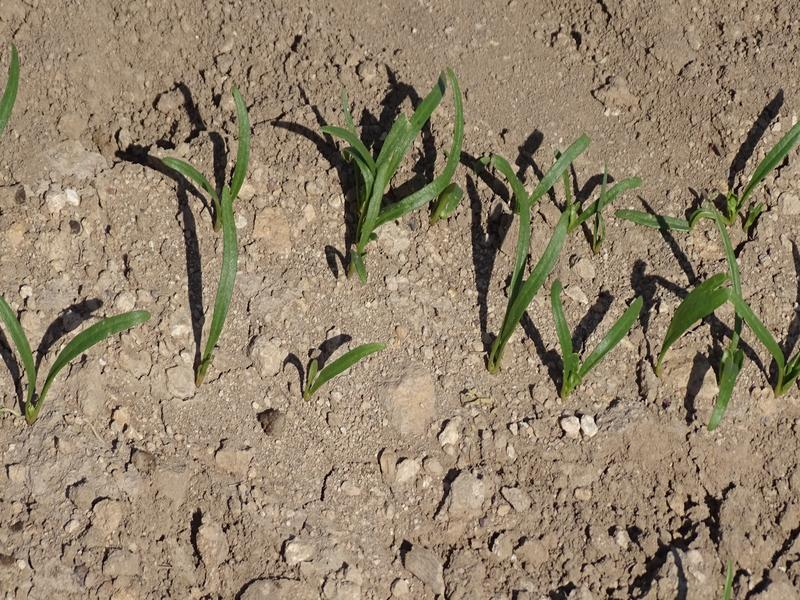Espinaca: (485, 142, 645, 401), (667, 196, 798, 418), (173, 93, 250, 367), (345, 99, 461, 278), (1, 304, 157, 422), (305, 342, 383, 404)
